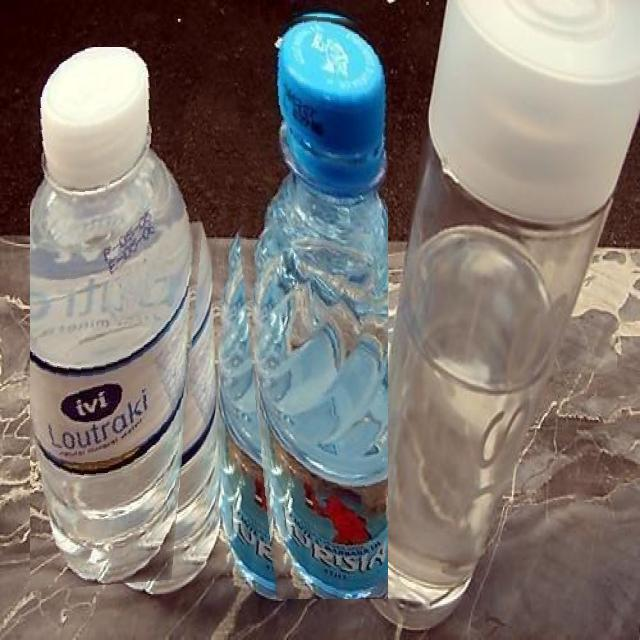plastic bottle: (30, 48, 220, 596), (215, 9, 388, 599)
